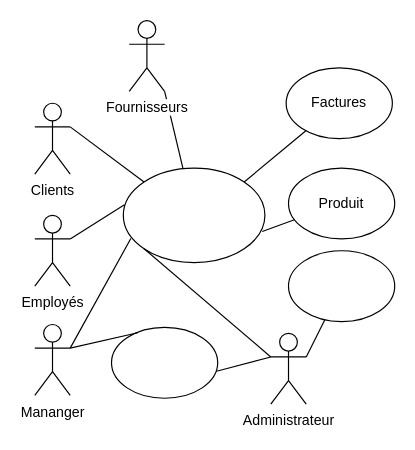
This 415x450 diagram has some shape labels left out. Here are the shapes that lost their labels. From the top down, the box of each, then its label:
(122, 167, 265, 263): Page de connexion
(287, 250, 395, 322): Menu développeurs
(110, 326, 218, 398): Page de configuration
